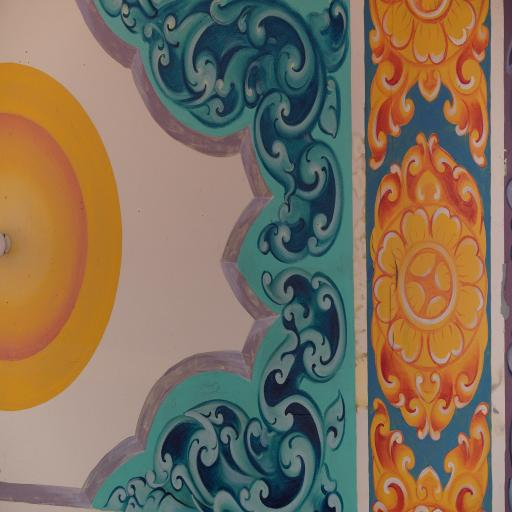hoa: (367, 203, 490, 369), (364, 0, 492, 66)
la: (82, 2, 353, 260), (104, 263, 351, 512), (369, 345, 491, 436), (377, 137, 486, 223), (432, 397, 490, 512), (441, 56, 497, 171), (370, 398, 426, 512), (367, 55, 418, 170)
